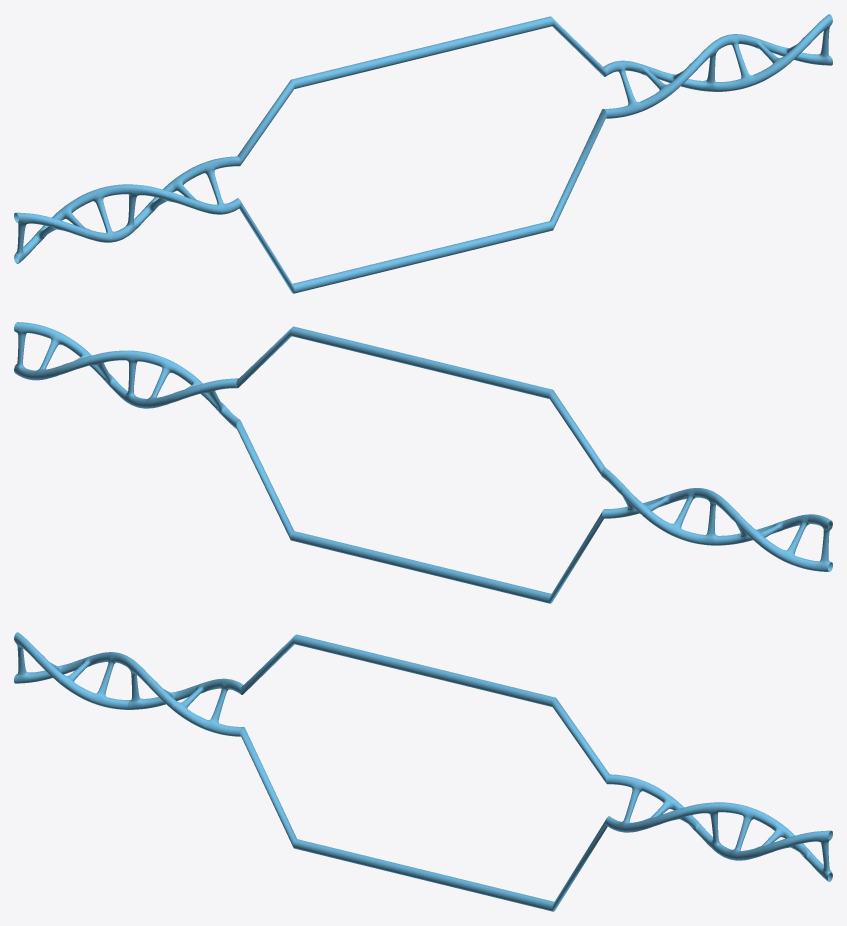
Rendered from dna_strand.fbx.
The picture shows the model from 3 angles, top to bottom: view 1: azimuth 30°, elevation 25°; view 2: azimuth 150°, elevation 25°; view 3: azimuth 330°, elevation 25°; orthographic projection.
Visible parts, largest first — view 1: Plane.003; view 2: Plane.003; view 3: Plane.003.
Boxes of the visible parts, x1,y1,x2,y2 form: Plane.003: [14, 14, 832, 293]; Plane.003: [14, 322, 832, 603]; Plane.003: [14, 632, 832, 911].
Bounding box in the file's own units: 204 × 51.14 × 12.59.
